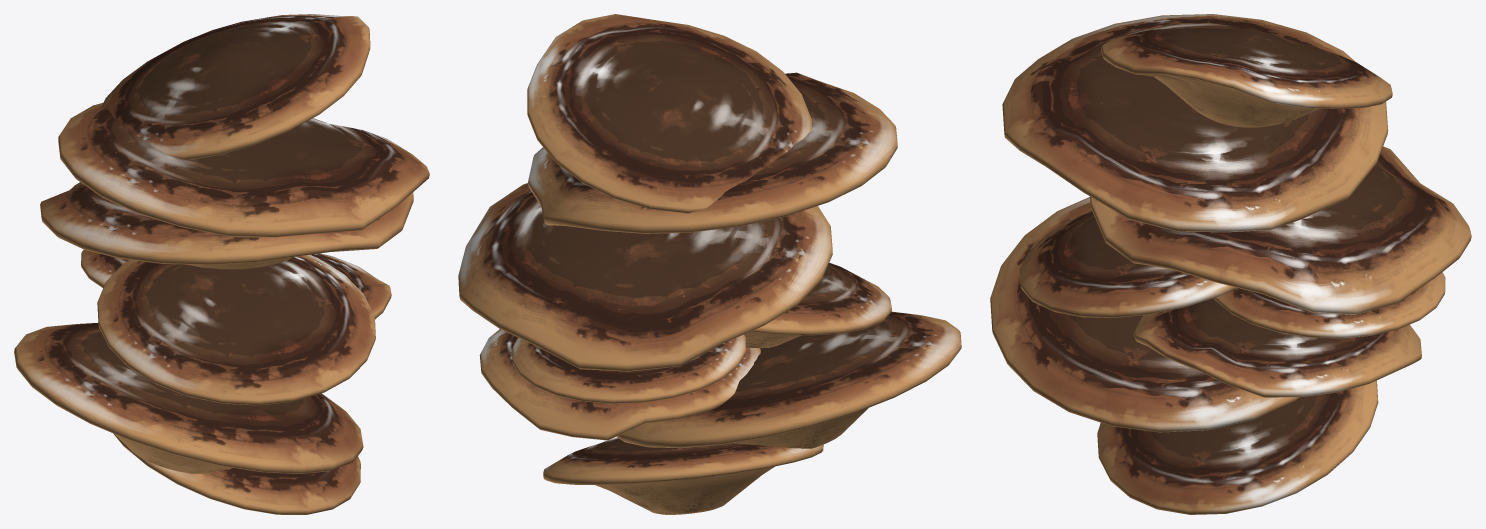
The model's file is Baum_pilz_set.FBX.
3 views of the same model, side by side, from view 1: azimuth 30°, elevation 25°; view 2: azimuth 150°, elevation 25°; view 3: azimuth 270°, elevation 25° (orthographic). The views are drawn at different scales.
Visible parts, largest first — view 1: Baumpilz_set; view 2: Baumpilz_set; view 3: Baumpilz_set.
Boxes of the visible parts, x1,y1,x2,y2 form: Baumpilz_set: [14, 14, 429, 514]; Baumpilz_set: [458, 14, 961, 514]; Baumpilz_set: [990, 14, 1471, 514].
Size of the model in its own units: 488 by 493 by 517.
